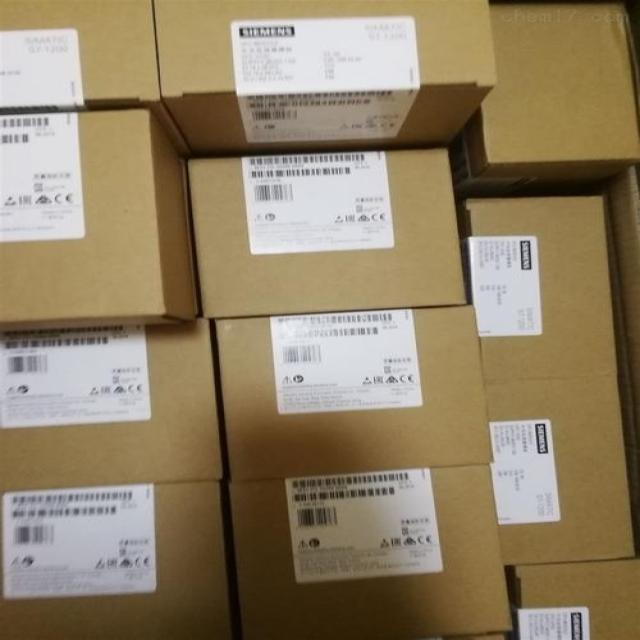box: (228, 464, 512, 640), (216, 305, 490, 483), (188, 147, 467, 320), (0, 108, 195, 334), (0, 320, 223, 491), (0, 482, 229, 639), (461, 1, 640, 179), (484, 373, 636, 565), (467, 196, 617, 379), (512, 558, 640, 640)
